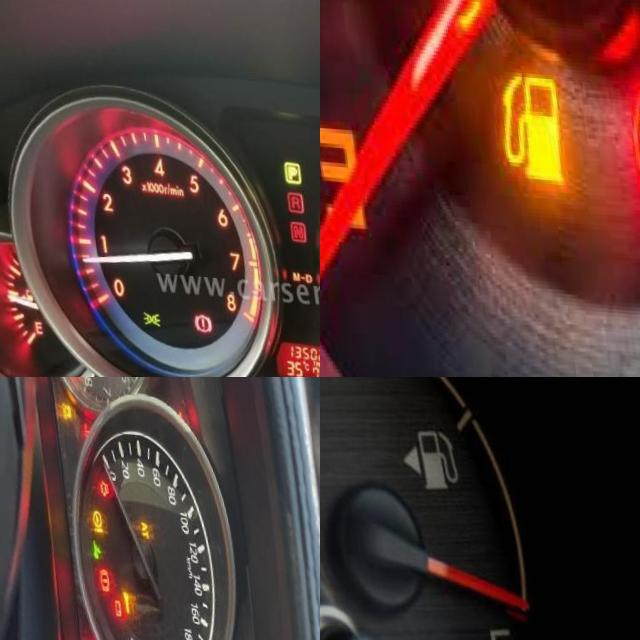Electronic Power Steering: (85, 505, 98, 529)
High Engine Coolant Temperature: (79, 417, 87, 433)
